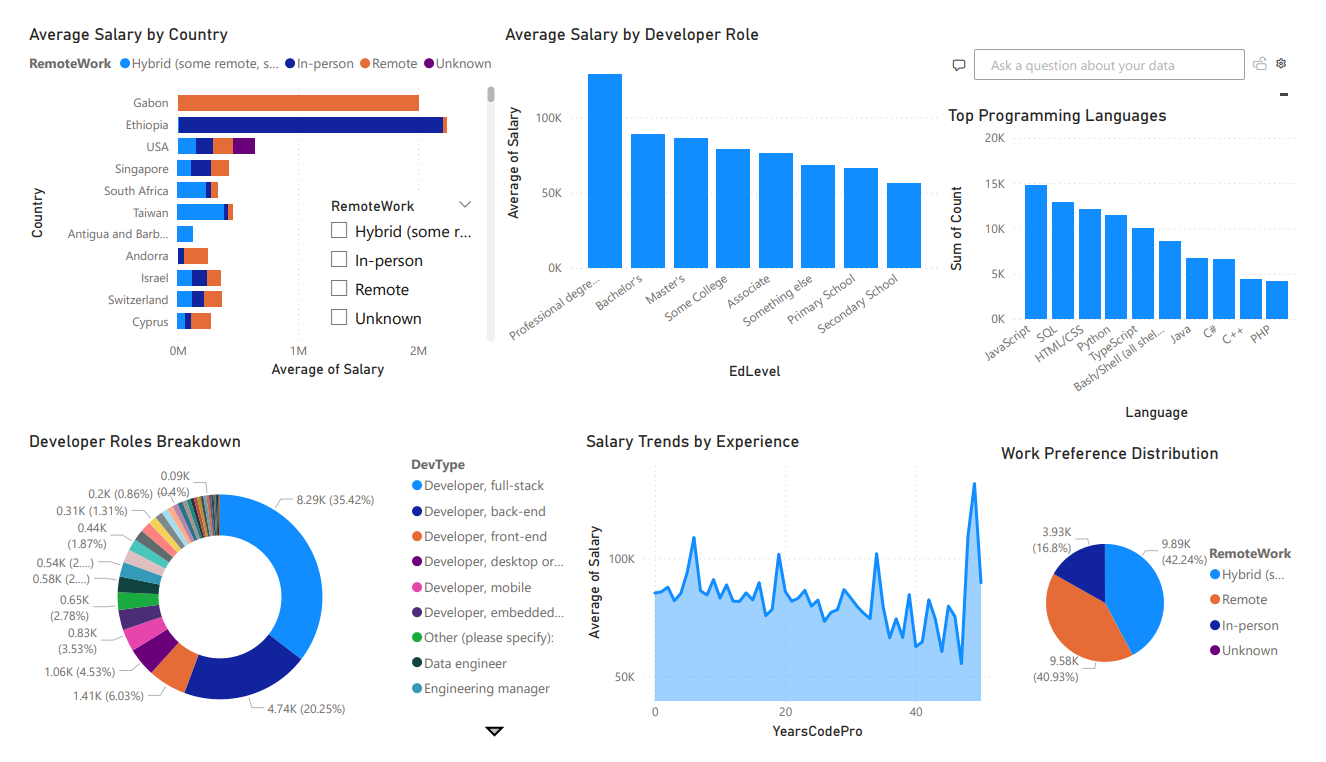

The dashboard page shown, as its layout file describes it:
{"tool":"powerbi","page":{"name":"Page 1","canvas":[1280,720],"ordinal":0},"visuals":[{"type":"barChart","title":"Average Salary by Country","fields":{"Category":["cleaned_survey_data (2).Country"],"Y":["Avg(cleaned_survey_data (2).ConvertedCompYearly)"],"Series":["cleaned_survey_data (2).RemoteWork"]},"box":[0,0,476.4,359.5],"z":0},{"type":"slicer","fields":{"Values":["cleaned_survey_data.RemoteWork"]},"box":[293.6,169.2,166.7,149.3],"z":1000},{"type":"columnChart","title":"Average Salary by Developer Role","fields":{"Category":["cleaned_survey_data (2).EdLevel"],"Y":["Avg(cleaned_survey_data (2).ConvertedCompYearly)"]},"box":[476.4,0,442.8,359.5],"z":2000},{"type":"donutChart","title":"Developer Roles Breakdown","fields":{"Y":["CountNonNull(cleaned_survey_data (2).DevType)"],"Category":["cleaned_survey_data (2).DevType"]},"box":[0,406.8,557.3,313.5],"z":3000},{"type":"pieChart","title":"Work Preference Distribution","fields":{"Y":["CountNonNull(cleaned_survey_data (2).RemoteWork)"],"Category":["cleaned_survey_data (2).RemoteWork"]},"box":[971.5,419.2,308.5,301],"z":4000},{"type":"areaChart","title":"Salary Trends by Experience","fields":{"Category":["cleaned_survey_data.YearsCodePro"],"Y":["Avg(cleaned_survey_data.Salary)"]},"box":[557.3,406.8,414.2,313.5],"z":5000},{"type":"columnChart","title":"Top Programming Languages","fields":{"Category":["top_languages.Language"],"Y":["Sum(top_languages.Count)"]},"box":[919.3,80.9,360.7,319.7],"z":6000},{"type":"qnaVisual","box":[919.3,0,353.3,80.9],"z":6001}]}

Visuals, with their boxes in screenshot pixels (x1, y1, x2, y2), scaled from the page's 1280x720 canvas onto the 1326x762 screenshot:
"Average Salary by Country" barChart: region(0, 0, 494, 380)
slicer - cleaned_survey_data.RemoteWork: region(304, 179, 477, 337)
"Average Salary by Developer Role" columnChart: region(494, 0, 952, 380)
"Developer Roles Breakdown" donutChart: region(0, 431, 577, 761)
"Work Preference Distribution" pieChart: region(1006, 444, 1325, 761)
"Salary Trends by Experience" areaChart: region(577, 431, 1006, 761)
"Top Programming Languages" columnChart: region(952, 86, 1325, 424)
qnaVisual: region(952, 0, 1318, 86)
